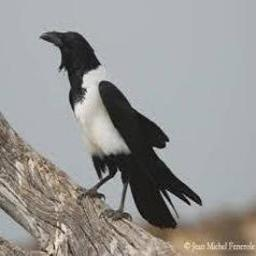Crow: (39, 30, 203, 231)
